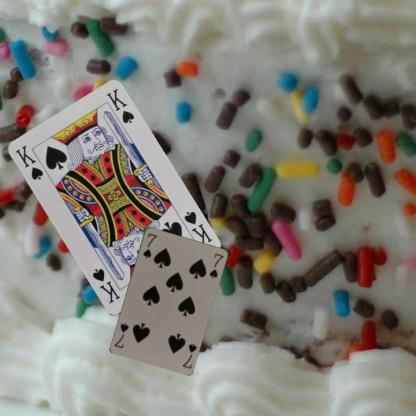7s: (140, 230, 158, 260), (180, 340, 198, 370)
Ks: (12, 142, 45, 182), (181, 208, 213, 248)
